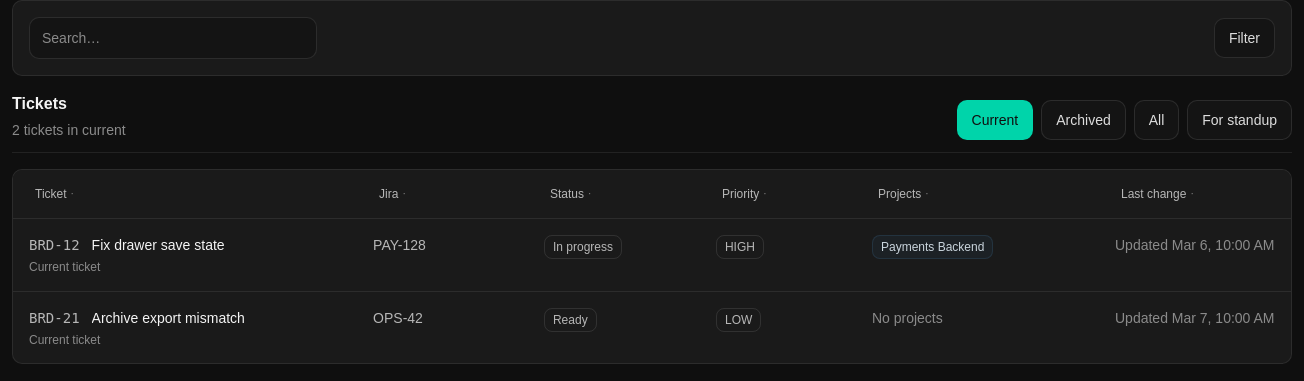
Test: TicketsPage › cycles sort from ascending to descending to default
Click the button with aria-label "Priority, not sorted" at x=744, y=194, box x1=716 y1=182 x2=773 y2=206
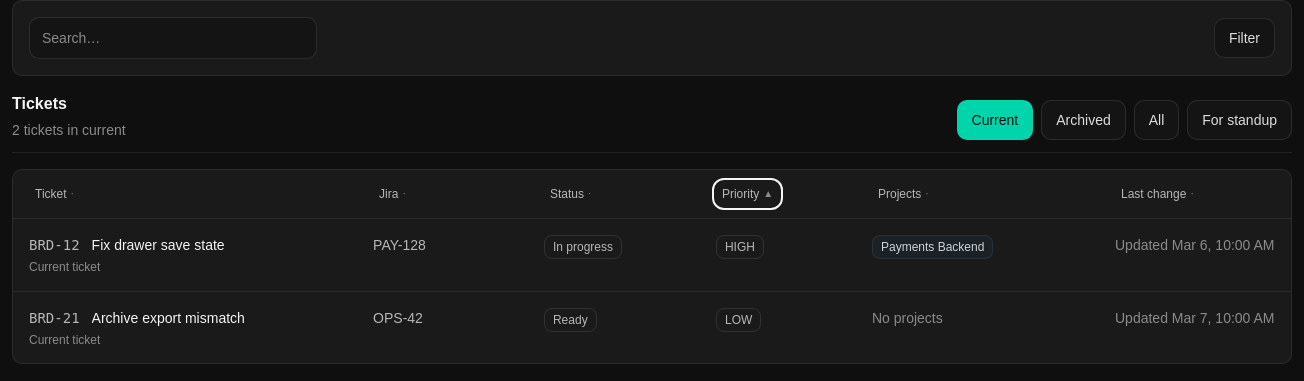
Expected: the button with aria-label "Priority, ascending" is shown
Click the button with aria-label "Priority, ascending" at x=748, y=194, box x1=716 y1=182 x2=779 y2=206
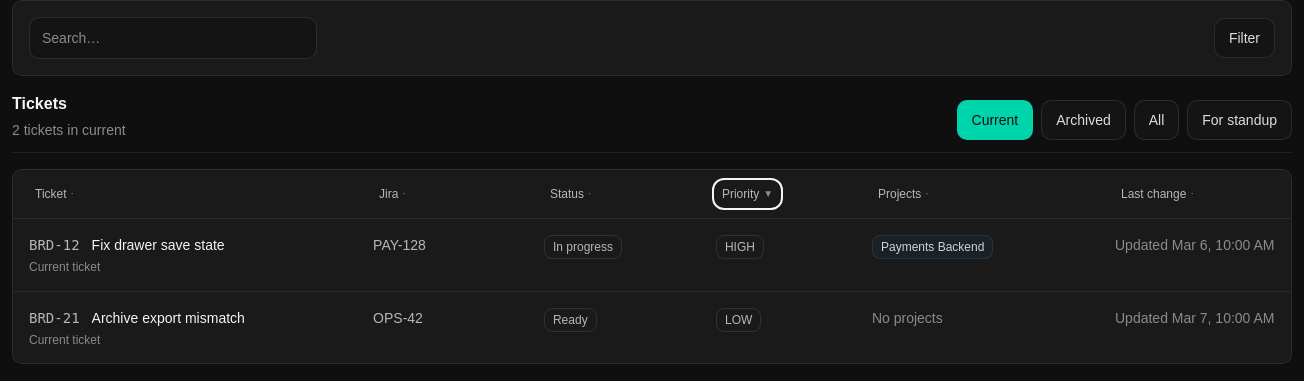
Expected: the button with aria-label "Priority, descending" is shown
Click the button with aria-label "Priority, descending" at x=748, y=194, box x1=716 y1=182 x2=779 y2=206
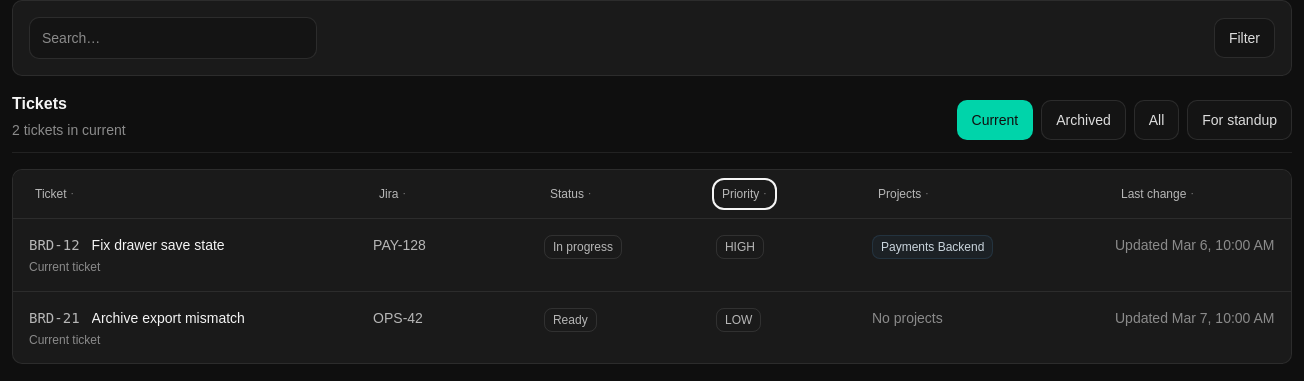
Expected: the button with aria-label "Priority, not sorted" is shown, x1=716 y1=182 x2=773 y2=206
